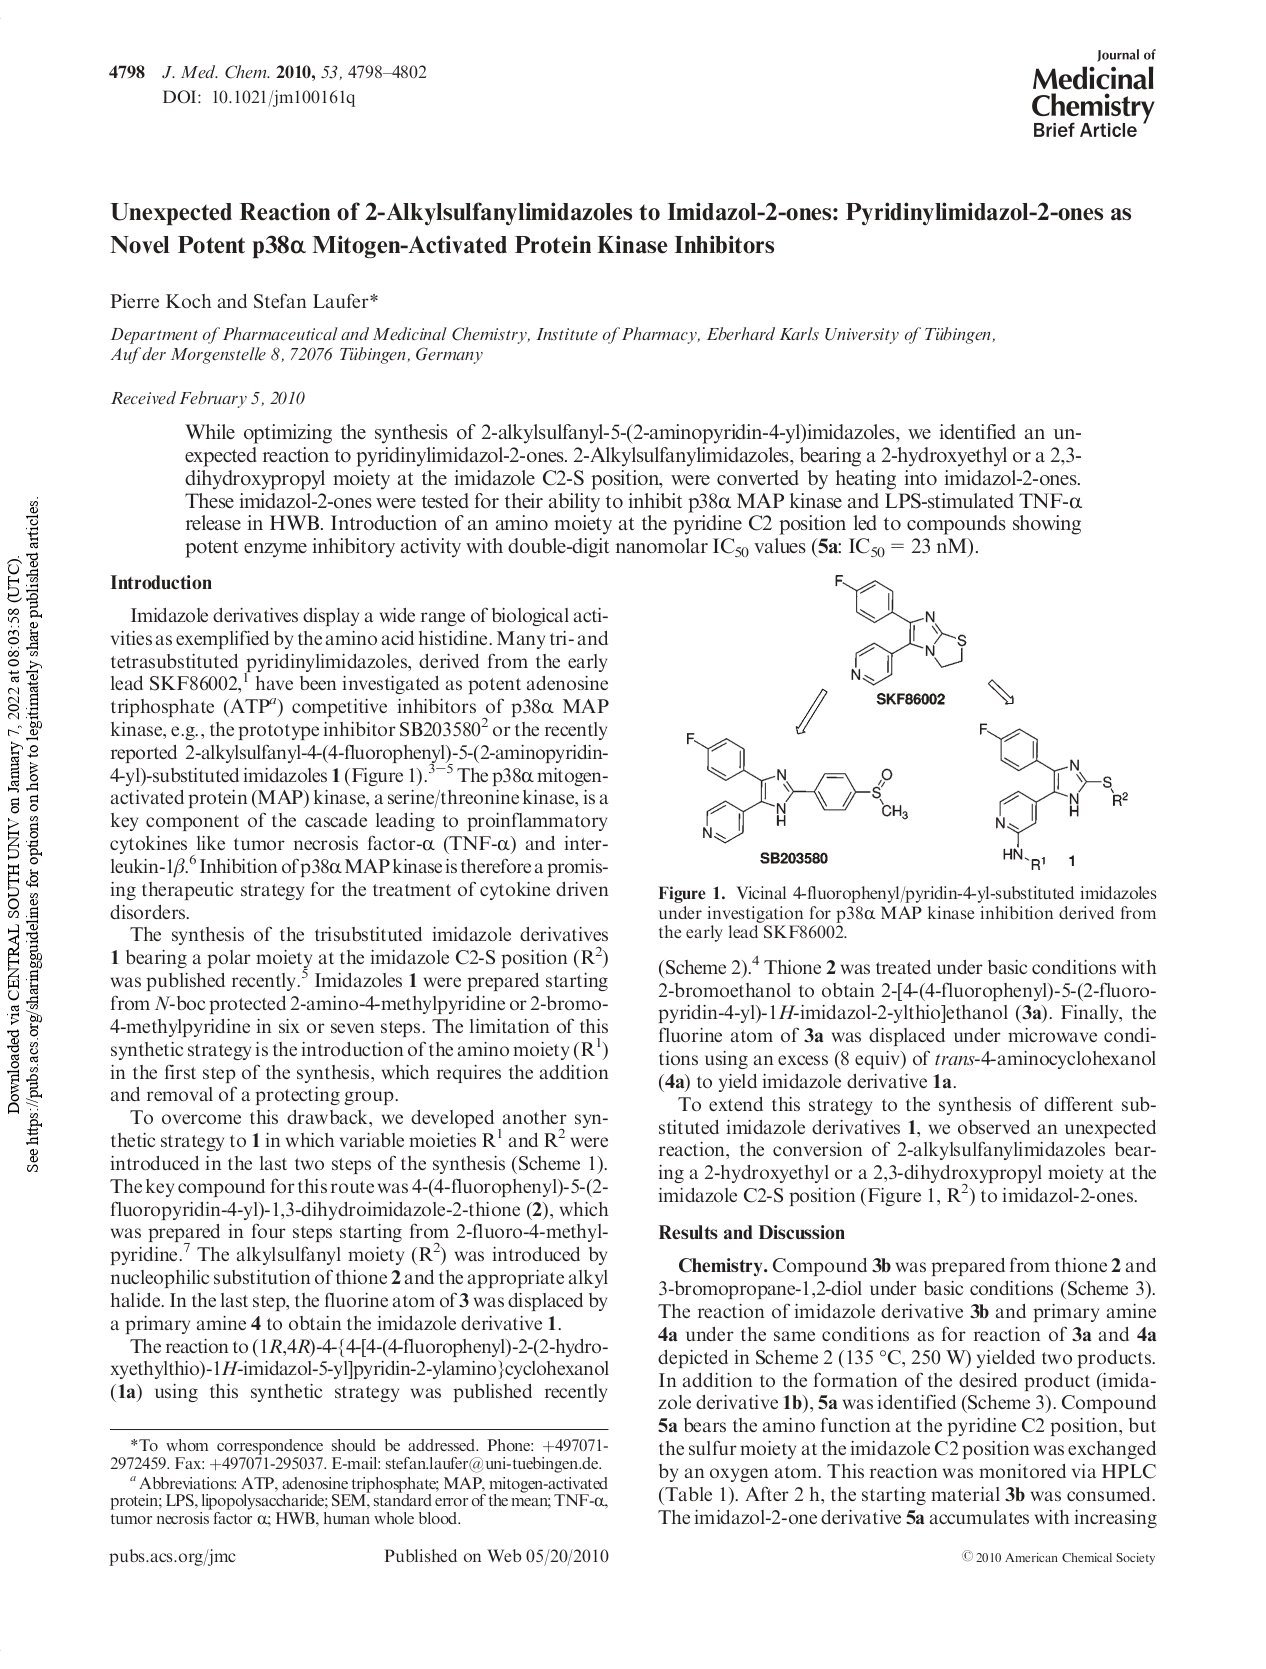exist_molecular: (666, 722, 911, 850), (969, 719, 1137, 874), (828, 565, 968, 689)
